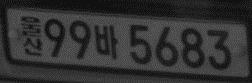3: (206, 28, 231, 69)
5: (129, 24, 153, 65)
6: (154, 25, 179, 67)
8: (179, 26, 205, 67)
9: (68, 19, 92, 59), (44, 17, 66, 58)
바: (94, 23, 118, 58)
울산_V: (19, 15, 43, 56)
